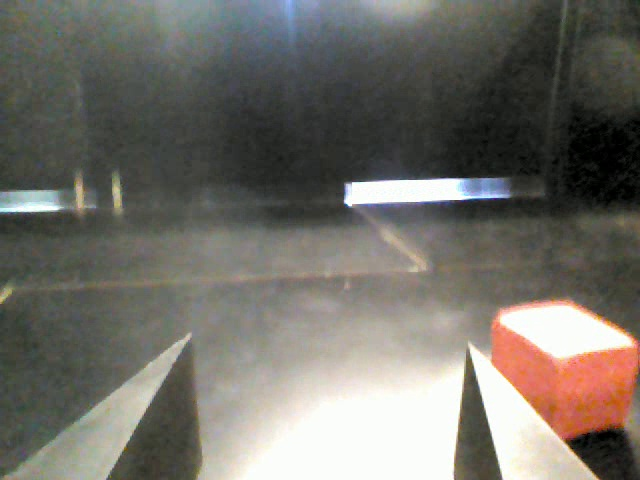cube: (479, 293, 640, 447)
